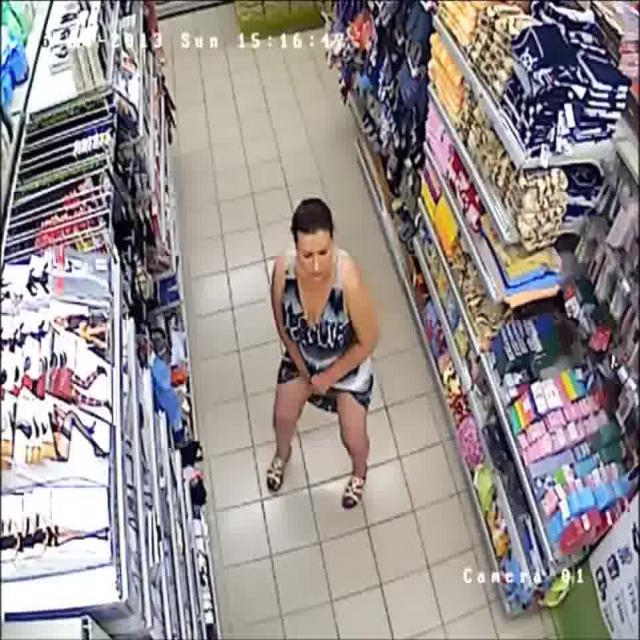persone: (262, 187, 400, 549)
